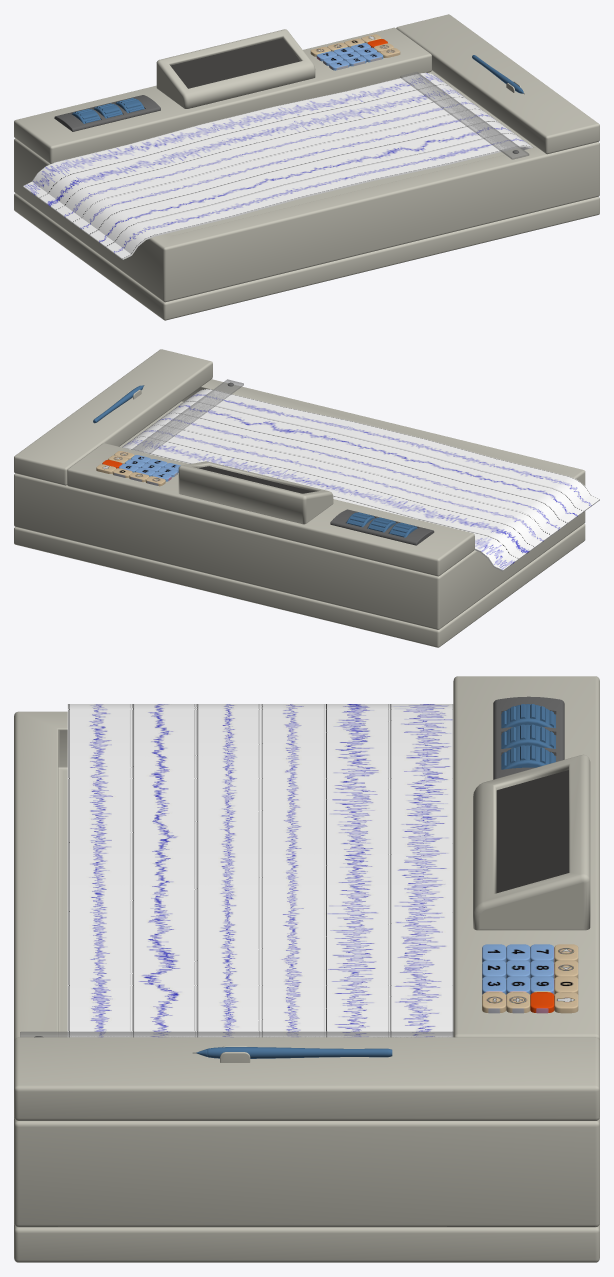
File: EMG_Machine.fbx
3 renders of one model, top to bottom at view 1: azimuth 30°, elevation 25°; view 2: azimuth 150°, elevation 25°; view 3: azimuth 270°, elevation 25°, orthographic. The views are drawn at different scales.
Parts seen in each view (by area): view 1: cadnav.com; view 2: cadnav.com; view 3: cadnav.com.
Boxes of the visible parts, bbox=[...] form: cadnav.com: bbox=[14, 14, 599, 320]; cadnav.com: bbox=[14, 349, 599, 647]; cadnav.com: bbox=[14, 676, 599, 1262].
Size of the model in its own units: 297 by 72.99 by 168.
Materials: 8 (2 with a texture image).
